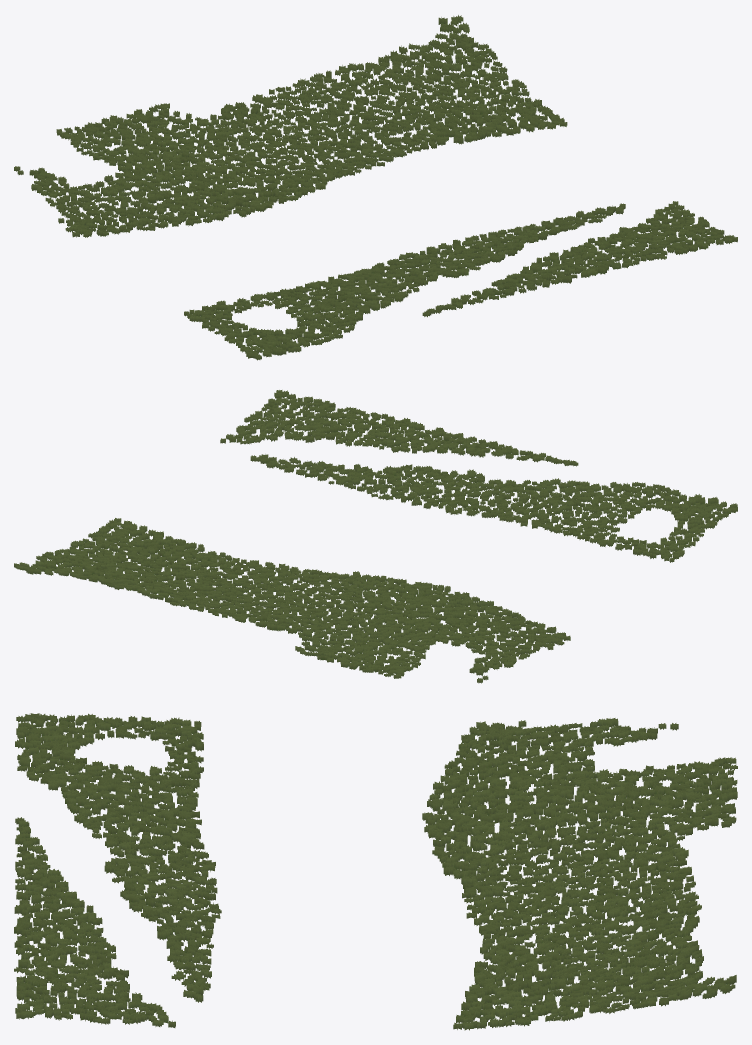
File: TRB8-GRASS-CHUNK-6-3.glb
The picture shows the model from 3 angles, top to bottom: view 1: azimuth 30°, elevation 25°; view 2: azimuth 150°, elevation 25°; view 3: azimuth 270°, elevation 25°; orthographic projection. The views are drawn at different scales.
Parts seen in each view (by area): view 1: TRB8-GRASS-CHUNK-6-3; view 2: TRB8-GRASS-CHUNK-6-3; view 3: TRB8-GRASS-CHUNK-6-3.
Boxes of the visible parts, x1=… form: TRB8-GRASS-CHUNK-6-3: x1=14, y1=15, x2=737, y2=360; TRB8-GRASS-CHUNK-6-3: x1=14, y1=390, x2=737, y2=683; TRB8-GRASS-CHUNK-6-3: x1=14, y1=713, x2=737, y2=1030.
Size of the model in its own units: 40.54 by 2.73 by 40.52.
Materials: 1 (1 with a texture image).
